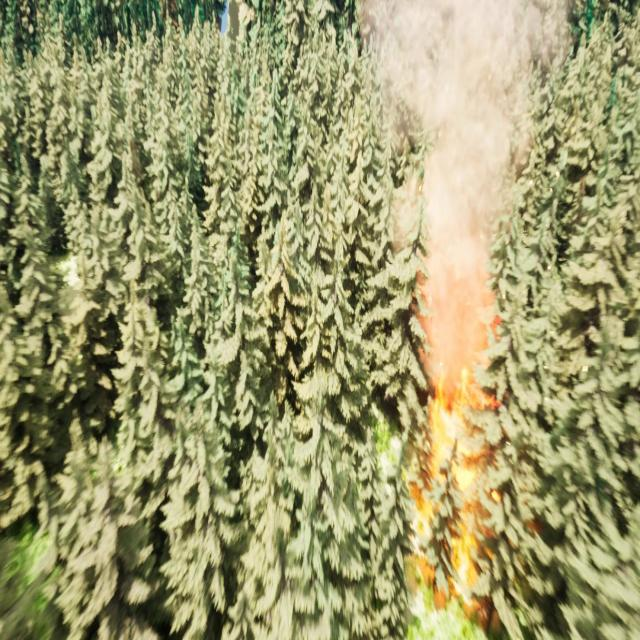fire: (410, 384, 496, 606)
smoke: (361, 0, 567, 378)
